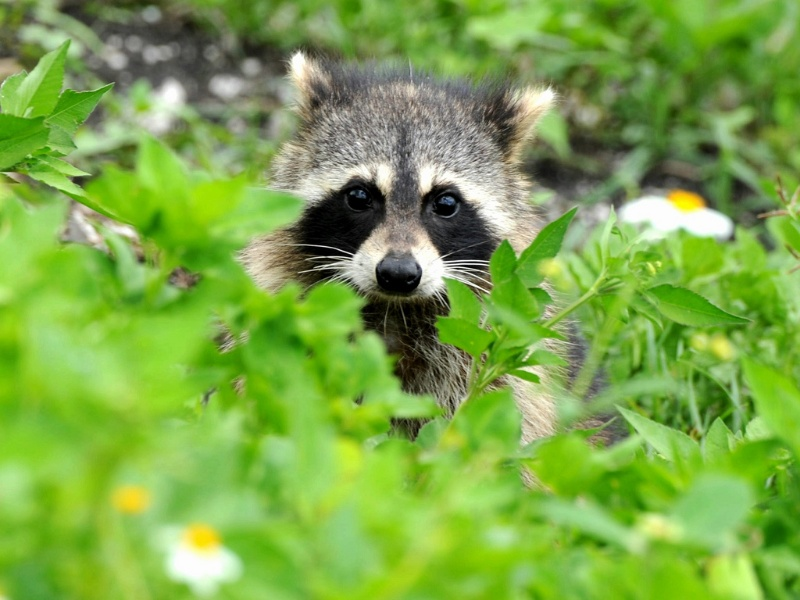raccoon: (195, 50, 578, 465)
